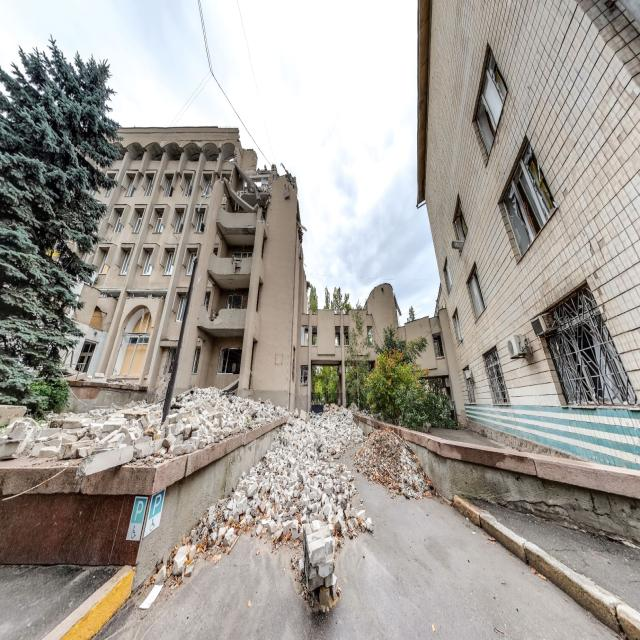broken_window: (532, 279, 637, 409), (498, 137, 558, 263), (471, 42, 508, 166), (110, 304, 152, 382), (482, 345, 510, 406), (465, 262, 486, 322)
building: (415, 0, 639, 474), (55, 124, 310, 416)
